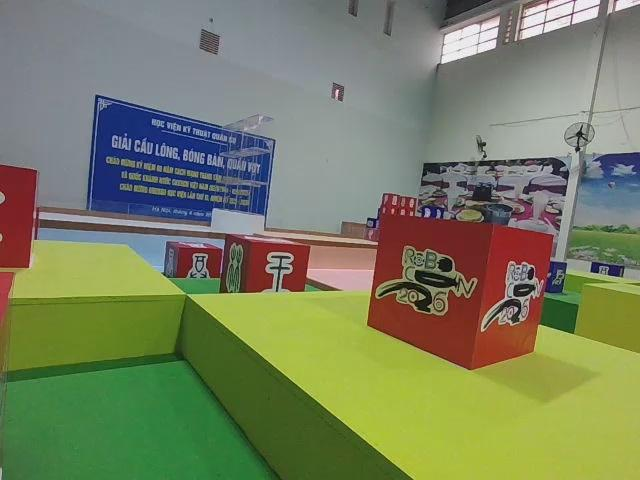R1: (365, 210, 558, 372)
R2 Fake: (219, 229, 313, 299)
R2 Real: (161, 238, 224, 286)
